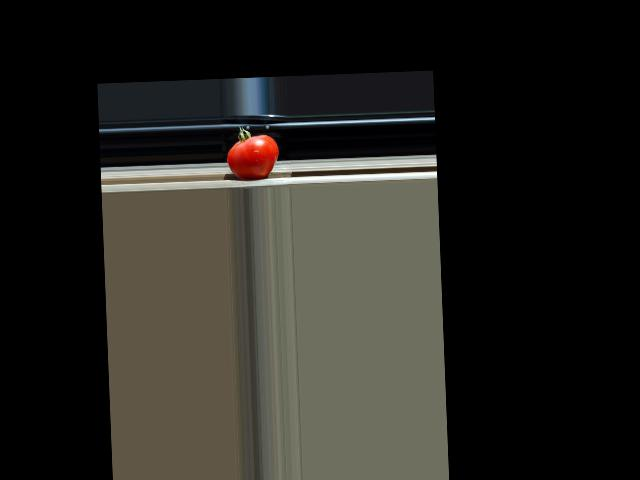tomato: (225, 125, 279, 179)
